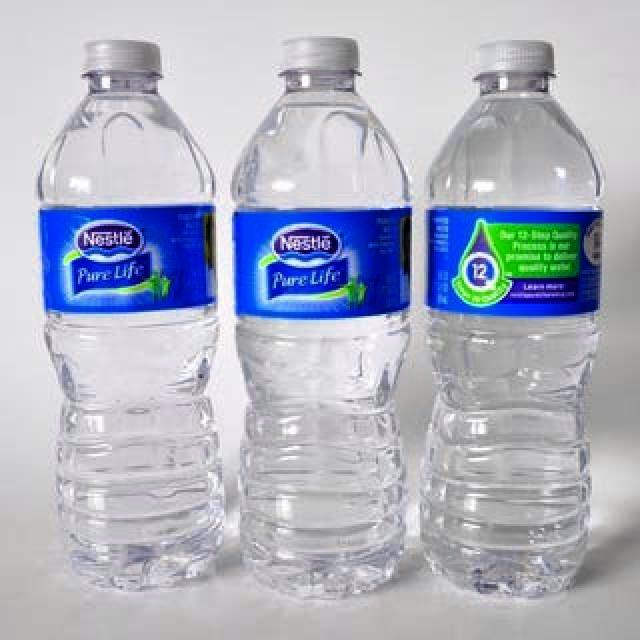bottle: (419, 42, 608, 599), (36, 40, 225, 591), (229, 37, 413, 602)
